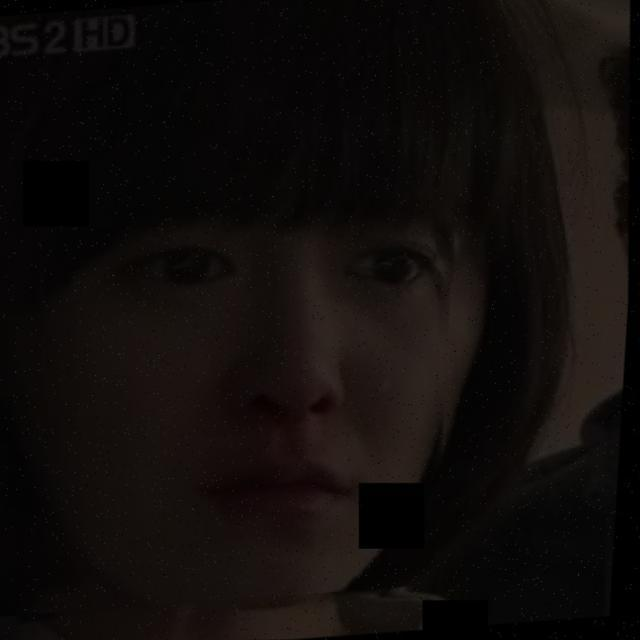Sad: (55, 109, 542, 598)
